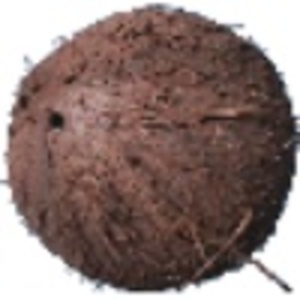coco: (1, 5, 300, 292)
